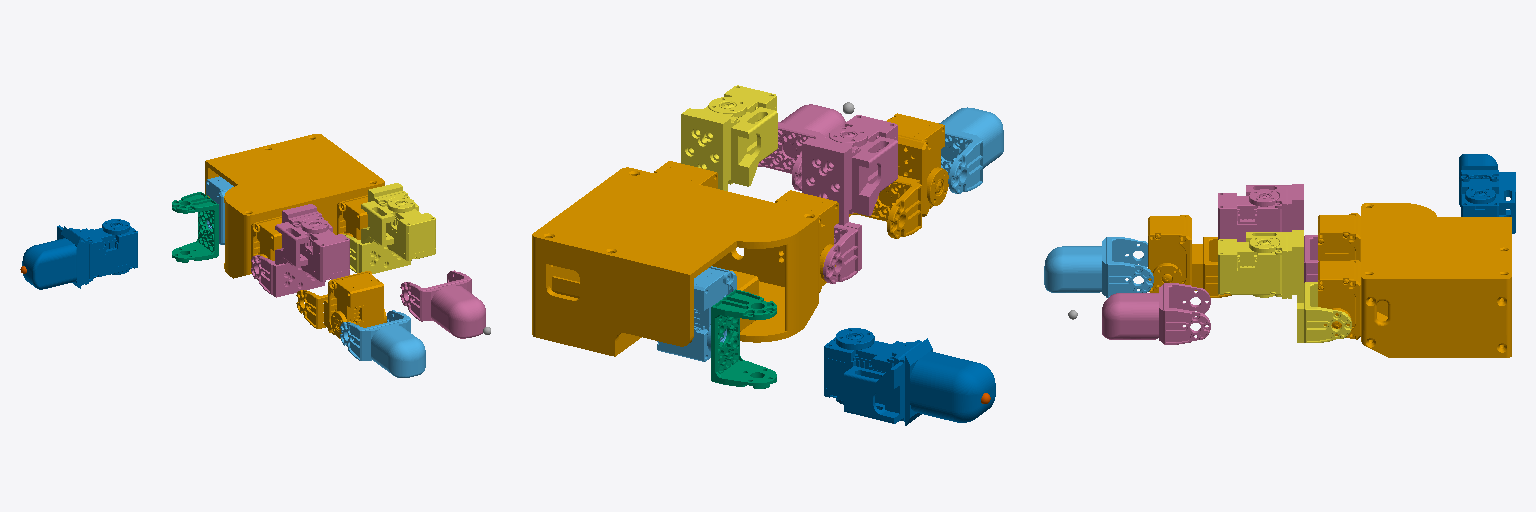
robot.urdf — for_urdf_left:
<?xml version='1.0' encoding='utf-8'?>
<robot name="for_urdf_left">
    <link name="palm">
        <inertial>
            <origin xyz="-0.044082651765982334 0.021387857757810866 0.0227181158114789" rpy="0.0 0.0 0.0" />
            <mass value="1.0369815732573533" />
            <inertia ixx="0.0011049792249882239" iyy="0.0010317736681395386" izz="0.001706516308758393" ixy="-0.00017199322958986064" iyz="9.12045047771746e-06" ixz="-6.229300664150651e-06" />
        </inertial>
        <visual name="palm_visual">
            <origin xyz="0.0 0.0 0.0" rpy="0.0 0.0 0.0" />
            <geometry>
                <mesh filename="meshes/palm.stl" scale="0.001 0.001 0.001" />
            </geometry>
        </visual>
        <collision name="palm_collision">
            <origin xyz="0.0 0.0 0.0" rpy="0.0 0.0 0.0" />
            <geometry>
                <mesh filename="meshes/palm.stl" scale="0.001 0.001 0.001" />
            </geometry>
        </collision>
    </link>
    <link name="thumb_metacarpal1">
        <inertial>
            <origin xyz="0.0002250070946678129 -0.007015717072435826 0.011848763937220338" rpy="0.0 -0.0 0.0" />
            <mass value="0.1368678994313018" />
            <inertia ixx="1.850335790135125e-05" iyy="1.2815907211302397e-05" izz="2.058441966236587e-05" ixy="5.554241833285021e-08" iyz="-7.97648288284047e-08" ixz="-3.266596126932183e-08" />
        </inertial>
        <visual name="thumb_metacarpal1_visual">
            <origin xyz="0.00029999999999996696 -0.005356636907728416 -0.0007840340104174449" rpy="-2.8025969286496354e-45 1.5707963267948906 0" />
            <geometry>
                <mesh filename="meshes/thumb_metacarpal1.stl" scale="0.001 0.001 0.001" />
            </geometry>
        </visual>
        <collision name="thumb_metacarpal1_collision">
            <origin xyz="0.00029999999999996696 -0.005356636907728416 -0.0007840340104174449" rpy="-2.8025969286496354e-45 1.5707963267948906 0" />
            <geometry>
                <mesh filename="meshes/thumb_metacarpal1.stl" scale="0.001 0.001 0.001" />
            </geometry>
        </collision>
    </link>
    <link name="thumb_metacarpal2">
        <inertial>
            <origin xyz="-0.00692127206609813 2.427004366367669e-09 6.68209301224465e-10" rpy="0.0 -0.0 1.4677379426225845e-47" />
            <mass value="0.01935609811919093" />
            <inertia ixx="4.069121186171359e-06" iyy="4.392023484606737e-06" izz="1.6616430847017519e-06" ixy="-1.950074352214184e-13" iyz="-6.552322413770638e-14" ixz="-5.884946388085654e-14" />
        </inertial>
        <visual name="thumb_metacarpal2_visual">
            <origin xyz="-0.015852648956664144 -0.011961920770611574 2.5535129566378603e-16" rpy="-8.129871583511872e-16 -1.2014689299012444e-15 -1.570796326794885" />
            <geometry>
                <mesh filename="meshes/thumb_metacarpal2.stl" scale="0.001 0.001 0.001" />
            </geometry>
        </visual>
        <collision name="thumb_metacarpal2_collision">
            <origin xyz="-0.015852648956664144 -0.011961920770611574 2.5535129566378603e-16" rpy="-8.129871583511872e-16 -1.2014689299012444e-15 -1.570796326794885" />
            <geometry>
                <mesh filename="meshes/thumb_metacarpal2.stl" scale="0.001 0.001 0.001" />
            </geometry>
        </collision>
    </link>
    <link name="thumb_proximal">
        <inertial>
            <origin xyz="-0.01337750503948408 0.0012292262844698688 -0.014668939059193602" rpy="0.0 -0.0 0.0" />
            <mass value="0.17555980876954594" />
            <inertia ixx="1.9882725828409566e-05" iyy="4.491953974664368e-05" izz="4.108519101658249e-05" ixy="1.2625386189746464e-06" iyz="1.8240294184543684e-07" ixz="2.4015417423559103e-07" />
        </inertial>
        <visual name="thumb_proximal_visual">
            <origin xyz="-0.057952952973708866 -0.04396871570724023 -0.020071323550631032" rpy="-3.141592653589789 -4.469134370833563e-15 -1.570796326794885" />
            <geometry>
                <mesh filename="meshes/thumb_proximal.stl" scale="0.001 0.001 0.001" />
            </geometry>
        </visual>
        <collision name="thumb_proximal_collision">
            <origin xyz="-0.057952952973708866 -0.04396871570724023 -0.020071323550631032" rpy="-3.141592653589789 -4.469134370833563e-15 -1.570796326794885" />
            <geometry>
                <mesh filename="meshes/thumb_proximal.stl" scale="0.001 0.001 0.001" />
            </geometry>
        </collision>
    </link>
    <link name="thumb_distal">
        <inertial>
            <origin xyz="-0.024003654344851365 0.0003520385154451411 -0.00023499513396040285" rpy="0.0 -0.0 -3.941151930913548e-46" />
            <mass value="0.25656730685939594" />
            <inertia ixx="2.3672008865559023e-05" iyy="0.00011410943092835026" izz="0.0001123577701833988" ixy="-4.087395483665243e-06" iyz="2.3556983042418796e-07" ixz="7.613707325149344e-07" />
        </inertial>
        <visual name="thumb_distal_visual">
            <origin xyz="0.07845968291139693 0.06255953846266765 -0.06334291180733337" rpy="3.141592653589791 1.011875047285532e-15 1.5707963267949068" />
            <geometry>
                <mesh filename="meshes/thumb_distal.stl" scale="0.001 0.001 0.001" />
            </geometry>
        </visual>
        <collision name="thumb_distal_collision">
            <origin xyz="0.07845968291139693 0.06255953846266765 -0.06334291180733337" rpy="3.141592653589791 1.011875047285532e-15 1.5707963267949068" />
            <geometry>
                <mesh filename="meshes/thumb_distal.stl" scale="0.001 0.001 0.001" />
            </geometry>
        </collision>
    </link>
    <link name="thumb_realtip">
        <inertial>
            <origin xyz="3.1974423109204507e-16 1.8562928971732616e-15 5.595524044110789e-16" rpy="0.0 -0.0 0.0" />
            <mass value="0.0005137812985558336" />
            <inertia ixx="1.2844532463918546e-09" iyy="1.284453246390584e-09" izz="1.284453246390584e-09" ixy="-6.349456052125804e-40" iyz="2.117582368135751e-22" ixz="-2.117582368135751e-22" />
        </inertial>
        <visual name="thumb_realtip_visual">
            <origin xyz="0.05340188731261648 0.20850000000000102 0.013500000000000317" rpy="3.14159265358979 1.3869755215444945e-15 -1.570796326794908" />
            <geometry>
                <mesh filename="meshes/thumb_realtip.stl" scale="0.001 0.001 0.001" />
            </geometry>
        </visual>
        <collision name="thumb_realtip_collision">
            <origin xyz="0.05340188731261648 0.20850000000000102 0.013500000000000317" rpy="3.14159265358979 1.3869755215444945e-15 -1.570796326794908" />
            <geometry>
                <mesh filename="meshes/thumb_realtip.stl" scale="0.001 0.001 0.001" />
            </geometry>
        </collision>
    </link>
    <link name="index_mcp_joint">
        <inertial>
            <origin xyz="0.022067979573779414 -0.034370715917380945 -0.013527985266617604" rpy="0.0 -0.0 0.0" />
            <mass value="0.22201994161036565" />
            <inertia ixx="6.410407866513077e-05" iyy="4.792197881551587e-05" izz="8.487896677913476e-05" ixy="1.9393491168224672e-05" iyz="-1.0074778164631482e-07" ixz="-1.1913147603022215e-06" />
        </inertial>
        <visual name="index_mcp_joint_visual">
            <origin xyz="-0.008406902261174444 -0.007766243859716949 -0.014342645014967204" rpy="-9.731353059491854e-16 -2.636025298395153e-15 3.141592653589793" />
            <geometry>
                <mesh filename="meshes/index_mcp_joint.stl" scale="0.001 0.001 0.001" />
            </geometry>
        </visual>
        <collision name="index_mcp_joint_collision">
            <origin xyz="-0.008406902261174444 -0.007766243859716949 -0.014342645014967204" rpy="-9.731353059491854e-16 -2.636025298395153e-15 3.141592653589793" />
            <geometry>
                <mesh filename="meshes/index_mcp_joint.stl" scale="0.001 0.001 0.001" />
            </geometry>
        </collision>
    </link>
    <link name="index_proximal">
        <inertial>
            <origin xyz="-0.011848763937220319 -0.007984282927564017 -0.00022500709466807044" rpy="4.634506056504137e-79 -0.0 0.0" />
            <mass value="0.1368678994313018" />
            <inertia ixx="2.058441966236598e-05" iyy="1.281590721130294e-05" izz="1.8503357901351902e-05" ixy="-7.976482882833248e-08" iyz="5.554241833278713e-08" ixz="-3.266596126920484e-08" />
        </inertial>
        <visual name="index_proximal_visual">
            <origin xyz="0.0007840340104174625 -0.009643363092271455 -0.0003000000000001979" rpy="-3.1415926535897905 2.8347068145744715e-15 -1.9543326705462292e-15" />
            <geometry>
                <mesh filename="meshes/index_proximal.stl" scale="0.001 0.001 0.001" />
            </geometry>
        </visual>
        <collision name="index_proximal_collision">
            <origin xyz="0.0007840340104174625 -0.009643363092271455 -0.0003000000000001979" rpy="-3.1415926535897905 2.8347068145744715e-15 -1.9543326705462292e-15" />
            <geometry>
                <mesh filename="meshes/index_proximal.stl" scale="0.001 0.001 0.001" />
            </geometry>
        </collision>
    </link>
    <link name="index_inter">
        <inertial>
            <origin xyz="0.014677740494651195 -0.030710773820957684 0.005541941878473575" rpy="0.0 -0.0 0.0" />
            <mass value="0.17326501033259323" />
            <inertia ixx="3.465740545974933e-05" iyy="2.734143629878611e-05" izz="3.079928725535164e-05" ixy="1.6878173640265054e-07" iyz="4.003919462594311e-06" ixz="-1.0091124470214728e-07" />
        </inertial>
        <visual name="index_inter_visual">
            <origin xyz="0.019214911837904757 -0.008432119146705209 0.02113335289522508" rpy="3.141592653589788 -1.5707963267948932 0" />
            <geometry>
                <mesh filename="meshes/index_inter.stl" scale="0.001 0.001 0.001" />
            </geometry>
        </visual>
        <collision name="index_inter_collision">
            <origin xyz="0.019214911837904757 -0.008432119146705209 0.02113335289522508" rpy="3.141592653589788 -1.5707963267948932 0" />
            <geometry>
                <mesh filename="meshes/index_inter.stl" scale="0.001 0.001 0.001" />
            </geometry>
        </collision>
    </link>
    <link name="index_distal">
        <inertial>
            <origin xyz="-4.772904247740683e-07 -0.028798904084547505 -0.0010496972665659144" rpy="-6.162975822039155e-33 -0.0 3.3937697182866663e-46" />
            <mass value="0.11971825858324643" />
            <inertia ixx="2.1203240991855696e-05" iyy="1.1525224003012325e-05" izz="2.4942489634515454e-05" ixy="7.292638999870247e-11" iyz="-8.505280618341122e-07" ixz="-3.825162134400612e-10" />
        </inertial>
        <visual name="index_distal_visual">
            <origin xyz="2.3980817331903383e-16 -0.006114238386542237 0.013286424108533477" rpy="3.1415926535897873 -1.5707963267948943 0" />
            <geometry>
                <mesh filename="meshes/index_distal.stl" scale="0.001 0.001 0.001" />
            </geometry>
        </visual>
        <collision name="index_distal_collision">
            <origin xyz="2.3980817331903383e-16 -0.006114238386542237 0.013286424108533477" rpy="3.1415926535897873 -1.5707963267948943 0" />
            <geometry>
                <mesh filename="meshes/index_distal.stl" scale="0.001 0.001 0.001" />
            </geometry>
        </collision>
    </link>
    <link name="index_realtip">
        <inertial>
            <origin xyz="-3.6415315207705137e-16 -1.4210854715202004e-16 -1.84297022087776e-16" rpy="0.0 -0.0 0.0" />
            <mass value="0.0005137812985558314" />
            <inertia ixx="1.2844532463855018e-09" iyy="1.2844532463893135e-09" izz="1.2844532463871959e-09" ixy="8.470329472543003e-22" iyz="-2.117582368135751e-22" ixz="1.0791520765279738e-52" />
        </inertial>
        <visual name="index_realtip_visual">
            <origin xyz="-0.007376887312612937 -0.1517000000000004 -0.02040000000000024" rpy="3.1415926535897913 -1.5707963267948932 0" />
            <geometry>
                <mesh filename="meshes/index_realtip.stl" scale="0.001 0.001 0.001" />
            </geometry>
        </visual>
        <collision name="index_realtip_collision">
            <origin xyz="-0.007376887312612937 -0.1517000000000004 -0.02040000000000024" rpy="3.1415926535897913 -1.5707963267948932 0" />
            <geometry>
                <mesh filename="meshes/index_realtip.stl" scale="0.001 0.001 0.001" />
            </geometry>
        </collision>
    </link>
    <link name="middle_mcp_joint">
        <inertial>
            <origin xyz="0.022067979573779622 -0.034370715917380855 -0.013527985266617528" rpy="0.0 -0.0 0.0" />
            <mass value="0.22201994161036565" />
            <inertia ixx="6.410407866513164e-05" iyy="4.792197881550974e-05" izz="8.487896677913118e-05" ixy="1.9393491168222558e-05" iyz="-1.00747781646261e-07" ixz="-1.191314760301166e-06" />
        </inertial>
        <visual name="middle_mcp_joint_visual">
            <origin xyz="-0.008406902261174458 -0.007766243859716995 -0.014342645014967266" rpy="-5.090134386962039e-16 1.4289268233513552e-15 3.141592653589793" />
            <geometry>
                <mesh filename="meshes/middle_mcp_joint.stl" scale="0.001 0.001 0.001" />
            </geometry>
        </visual>
        <collision name="middle_mcp_joint_collision">
            <origin xyz="-0.008406902261174458 -0.007766243859716995 -0.014342645014967266" rpy="-5.090134386962039e-16 1.4289268233513552e-15 3.141592653589793" />
            <geometry>
                <mesh filename="meshes/middle_mcp_joint.stl" scale="0.001 0.001 0.001" />
            </geometry>
        </collision>
    </link>
    <link name="middle_proximal">
        <inertial>
            <origin xyz="-0.011848763937219975 -0.007984282927563946 -0.0002250070946682725" rpy="2.6902431147352317e-79 -0.0 0.0" />
            <mass value="0.1368678994313018" />
            <inertia ixx="2.0584419662366088e-05" iyy="1.2815907211302492e-05" izz="1.8503357901351577e-05" ixy="-7.976482882846801e-08" iyz="5.5542418332814236e-08" ixz="-3.2665961269069313e-08" />
        </inertial>
        <visual name="middle_proximal_visual">
            <origin xyz="0.0007840340104178667 -0.009643363092271375 -0.0003000000000003622" rpy="-3.141592653589791 6.938893903907506e-17 -1.954332670546238e-15" />
            <geometry>
                <mesh filename="meshes/middle_proximal.stl" scale="0.001 0.001 0.001" />
            </geometry>
        </visual>
        <collision name="middle_proximal_collision">
            <origin xyz="0.0007840340104178667 -0.009643363092271375 -0.0003000000000003622" rpy="-3.141592653589791 6.938893903907506e-17 -1.954332670546238e-15" />
            <geometry>
                <mesh filename="meshes/middle_proximal.stl" scale="0.001 0.001 0.001" />
            </geometry>
        </collision>
    </link>
    <link name="middle_inter">
        <inertial>
            <origin xyz="0.014677740494651854 -0.030710773820957434 0.00554194187847414" rpy="0.0 -0.0 0.0" />
            <mass value="0.17326501033259323" />
            <inertia ixx="3.4657405459753016e-05" iyy="2.7341436298787383e-05" izz="3.079928725535186e-05" ixy="1.6878173640237949e-07" iyz="4.003919462593389e-06" ixz="-1.0091124470244544e-07" />
        </inertial>
        <visual name="middle_inter_visual">
            <origin xyz="0.019214911837905187 -0.008432119146704836 0.021133352895225516" rpy="-3.1415926535897882 -1.570796326794894 0" />
            <geometry>
                <mesh filename="meshes/middle_inter.stl" scale="0.001 0.001 0.001" />
            </geometry>
        </visual>
        <collision name="middle_inter_collision">
            <origin xyz="0.019214911837905187 -0.008432119146704836 0.021133352895225516" rpy="-3.1415926535897882 -1.570796326794894 0" />
            <geometry>
                <mesh filename="meshes/middle_inter.stl" scale="0.001 0.001 0.001" />
            </geometry>
        </collision>
    </link>
    <link name="middle_distal">
        <inertial>
            <origin xyz="-4.77290423741561e-07 -0.02879894520854341 -0.0010496972665652237" rpy="0.0 -0.0 -2.68217284187172e-46" />
            <mass value="0.11971825858324693" />
            <inertia ixx="2.120294377573633e-05" iyy="1.1525224003012505e-05" izz="2.4942192418396117e-05" ixy="7.292873987979472e-11" iyz="-8.504574809061484e-07" ixz="-3.8251621380720414e-10" />
        </inertial>
        <visual name="middle_distal_visual">
            <origin xyz="9.37028232783632e-16 0.008885761613458066 0.01328642410853421" rpy="-3.1415926535897833 -1.5707963267948934 0" />
            <geometry>
                <mesh filename="meshes/middle_distal.stl" scale="0.001 0.001 0.001" />
            </geometry>
        </visual>
        <collision name="middle_distal_collision">
            <origin xyz="9.37028232783632e-16 0.008885761613458066 0.01328642410853421" rpy="-3.1415926535897833 -1.5707963267948934 0" />
            <geometry>
                <mesh filename="meshes/middle_distal.stl" scale="0.001 0.001 0.001" />
            </geometry>
        </collision>
    </link>
    <link name="middle_realtip">
        <inertial>
            <origin xyz="1.0147438445073931e-15 -5.329070518200751e-17 8.01581023779363e-16" rpy="0.0 -0.0 0.0" />
            <mass value="0.0005137812985558331" />
            <inertia ixx="1.2844532464227713e-09" iyy="1.2844532462918517e-09" izz="1.284453246390584e-09" ixy="-5.066274752901856e-40" iyz="2.752857078576476e-21" ixz="-1.4823076576950256e-21" />
        </inertial>
        <visual name="middle_realtip_visual">
            <origin xyz="-0.007376887312610807 -0.02040000000000015 0.1517000000000008" rpy="1.5707963267948986 -2.2376096154286396e-15 1.5707963267949066" />
            <geometry>
                <mesh filename="meshes/middle_realtip.stl" scale="0.001 0.001 0.001" />
            </geometry>
        </visual>
        <collision name="middle_realtip_collision">
            <origin xyz="-0.007376887312610807 -0.02040000000000015 0.1517000000000008" rpy="1.5707963267948986 -2.2376096154286396e-15 1.5707963267949066" />
            <geometry>
                <mesh filename="meshes/middle_realtip.stl" scale="0.001 0.001 0.001" />
            </geometry>
        </collision>
    </link>
    <joint name="palm_Revolute-1" type="continuous">
        <origin xyz="-0.06849999999999999 0.0495 0.0131" rpy="-1.570796326794899 -0.0 0.0" />
        <parent link="palm" />
        <child link="thumb_metacarpal1" />
        <axis xyz="0.0 -2.2920118444087085e-15 -1.0" />
    </joint>
    <joint name="thumb_metacarpal1_Revolute-2" type="continuous">
        <origin xyz="-0.014399999999999968 -3.1086244689504386e-17 0.012999999999999998" rpy="1.5707963267948981 -3.944304526105086e-31 1.2030572237243838e-30" />
        <parent link="thumb_metacarpal1" />
        <child link="thumb_metacarpal2" />
        <axis xyz="1.0 1.2826675713399827e-45 1.2187628405639923e-17" />
    </joint>
    <joint name="thumb_metacarpal2_Revolute-3" type="continuous">
        <origin xyz="-0.01700000000000001 -1.7763568394002505e-17 0.014499999999999996" rpy="8.12987158351172e-16 -1.203057223724384e-30 -8.011439655568863e-31" />
        <parent link="thumb_metacarpal2" />
        <child link="thumb_proximal" />
        <axis xyz="0.0 0.0 1.0" />
    </joint>
    <joint name="thumb_proximal_Revolute-4" type="continuous">
        <origin xyz="-0.0466 0.0 -0.014399999999999998" rpy="-1.94289029309406e-16 -3.2751579226442197e-15 6.064385823610384e-30" />
        <parent link="thumb_proximal" />
        <child link="thumb_distal" />
        <axis xyz="-3.27515792264423e-15 1.9428902930940634e-16 1.0000000000000018" />
    </joint>
    <joint name="thumb_distal_Rigid_thumb" type="fixed">
        <origin xyz="-0.062099999999999815 -0.0004999999999999894 -4.999999999979909e-05" rpy="-3.141592653589793 3.275157922644224e-15 -5.384025621805771e-30" />
        <parent link="thumb_distal" />
        <child link="thumb_realtip" />
    </joint>
    <joint name="palm_Revolute-6" type="continuous">
        <origin xyz="-0.09240000000000001 -0.013000000000000001 0.017275000000000002" rpy="-2.9312370336627847e-16 -1.5707963267948966 0" />
        <parent link="palm" />
        <child link="index_mcp_joint" />
        <axis xyz="0.0 -2.9312370336627847e-16 -1.0" />
    </joint>
    <joint name="index_mcp_joint_Revolute-7" type="continuous">
        <origin xyz="0.012200000000000027 -0.03810000000000001 -0.01450000000000002" rpy="-1.2611885311089414e-15 8.233073615845547e-48 -2.8087368988913695e-32" />
        <parent link="index_mcp_joint" />
        <child link="index_proximal" />
        <axis xyz="1.0 1.0615834244799634e-32 -5.9974077989215e-16" />
    </joint>
    <joint name="index_proximal_Revolute-8" type="continuous">
        <origin xyz="-0.012999999999999992 -0.015000000000000019 0.014399999999999977" rpy="-8.129871583511719e-16 1.570796326794895 0" />
        <parent link="index_proximal" />
        <child link="index_inter" />
        <axis xyz="1.0 3.944304526105059e-31 1.21876284056415e-17" />
    </joint>
    <joint name="index_inter_Revolute-9" type="continuous">
        <origin xyz="0.014450000000000003 -0.03610000000000001 -2.886579864025407e-17" rpy="7.635123965975588e-16 2.873007191446387e-16 -1.3441500151923793e-30" />
        <parent link="index_inter" />
        <child link="index_distal" />
        <axis xyz="0.9999999999999968 1.3322676295501993e-15 6.620009899558987e-16" />
    </joint>
    <joint name="index_distal_Rigid_index" type="fixed">
        <origin xyz="7.993605777301127e-17 -0.049499999999999926 -0.0005000000000000027" rpy="4.947476175361066e-17 -2.8730071914463617e-16 1.5316108884721948e-30" />
        <parent link="index_distal" />
        <child link="index_realtip" />
    </joint>
    <joint name="palm_Revolute-11" type="continuous">
        <origin xyz="-0.0344 -0.013000000000000001 0.017275000000000002" rpy="-3.486348545975353e-16 -1.5707963267948966 0" />
        <parent link="palm" />
        <child link="middle_mcp_joint" />
        <axis xyz="0.0 -3.486348545975353e-16 -1.0" />
    </joint>
    <joint name="middle_mcp_joint_Revolute-12" type="continuous">
        <origin xyz="0.012200000000000006 -0.0381 -0.014500000000000013" rpy="-1.205677379877684e-15 -1.1841627752709715e-47 3.396570250091521e-32" />
        <parent link="middle_mcp_joint" />
        <child link="middle_proximal" />
        <axis xyz="1.0 -5.095803370108072e-33 -5.9974077989215e-16" />
    </joint>
    <joint name="middle_proximal_Revolute-13" type="continuous">
        <origin xyz="-0.012999999999999992 -0.015000000000000027 0.01439999999999998" rpy="-8.129871583511721e-16 1.570796326794895 0" />
        <parent link="middle_proximal" />
        <child link="middle_inter" />
        <axis xyz="1.0 0.0 1.21876284056415e-17" />
    </joint>
    <joint name="middle_inter_Revolute-14" type="continuous">
        <origin xyz="0.014450000000000001 -0.03610000000000001 -2.886579864025407e-17" rpy="7.635123965975631e-16 2.8730071914463844e-16 -9.497195625818743e-31" />
        <parent link="middle_inter" />
        <child link="middle_distal" />
        <axis xyz="0.9999999999999962 -4.6629367034256464e-15 2.5216245562026963e-15" />
    </joint>
    <joint name="middle_distal_Rigid_middle" type="fixed">
        <origin xyz="-2.3092638912203257e-16 -0.04950000000000003 -0.0005000000000000049" rpy="4.947476175361161e-17 -2.8730071914463864e-16 1.2004456011351914e-30" />
        <parent link="middle_distal" />
        <child link="middle_realtip" />
    </joint>
</robot>

--- Render facts (derived) ---
The picture shows the robot from 3 angles, left to right: view 1: azimuth 30°, elevation 25°; view 2: azimuth 150°, elevation 25°; view 3: azimuth 270°, elevation 25°; orthographic projection.
Model for_urdf_left with 16 links and 15 joints (12 continuous, 3 fixed), rooted at palm, posed every joint at zero.
Links seen in each view (by area): view 1: palm, index_mcp_joint, thumb_distal, middle_mcp_joint, index_inter, middle_distal, index_distal, thumb_metacarpal2, thumb_metacarpal1; view 2: palm, thumb_distal, index_mcp_joint, middle_mcp_joint, index_inter, thumb_metacarpal2, index_distal, middle_distal, thumb_metacarpal1; view 3: palm, middle_mcp_joint, middle_distal, index_distal, index_mcp_joint, index_inter, thumb_distal.
Link boxes in pixels (x1,y1,x2,y2): palm: [205, 134, 384, 278]; index_mcp_joint: [251, 204, 349, 297]; thumb_distal: [22, 219, 137, 289]; middle_mcp_joint: [343, 183, 435, 273]; index_inter: [296, 271, 386, 338]; middle_distal: [400, 270, 485, 338]; index_distal: [340, 310, 425, 377]; thumb_metacarpal2: [172, 192, 218, 262]; thumb_metacarpal1: [206, 176, 233, 244]; palm: [532, 161, 838, 356]; thumb_distal: [824, 328, 995, 425]; index_mcp_joint: [802, 115, 897, 283]; middle_mcp_joint: [681, 85, 777, 190]; index_inter: [849, 113, 948, 238]; thumb_metacarpal2: [711, 289, 776, 388]; index_distal: [939, 107, 1003, 193]; middle_distal: [758, 104, 845, 190]; thumb_metacarpal1: [657, 266, 736, 361]; palm: [1318, 203, 1511, 357]; middle_mcp_joint: [1218, 230, 1351, 342]; middle_distal: [1102, 283, 1210, 344]; index_distal: [1044, 237, 1153, 297]; index_mcp_joint: [1218, 184, 1318, 282]; index_inter: [1148, 215, 1231, 297]; thumb_distal: [1459, 154, 1515, 233].
Size in the robot's own frame: 0.2111 by 0.2477 by 0.0645 metres.
Meshes: 16 distinct files referenced, 12 mesh visuals loaded (12 binary STL); not drawn: 4 (reference not matched to a file when rendering).